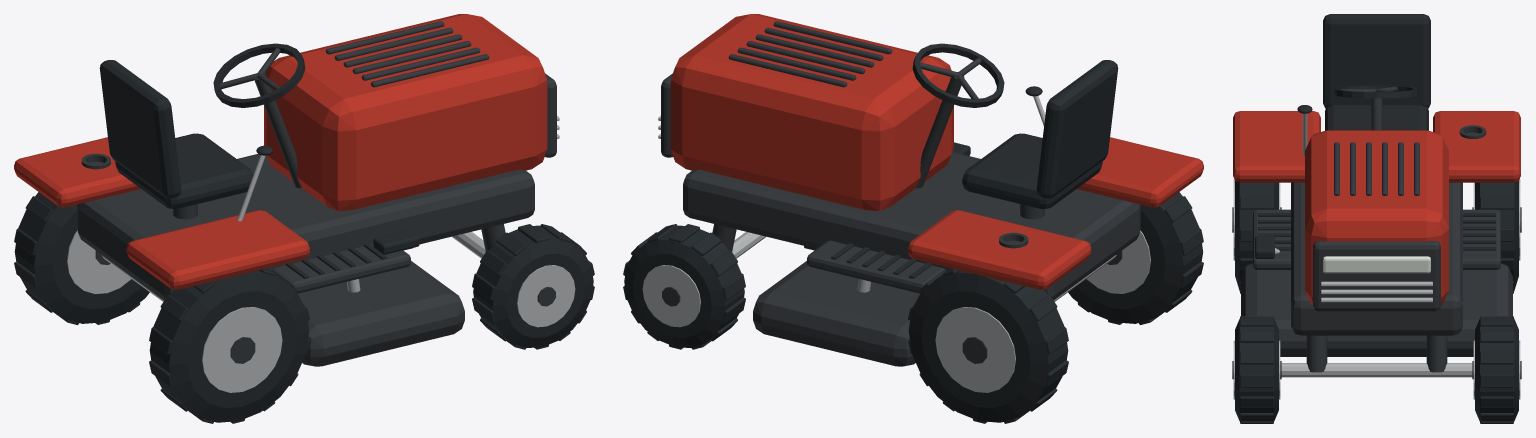
File: A-NEW-20261026-RIDING-MOWER-001_LOD2_R5.fbx
3 renders of one model, left to right at view 1: azimuth 30°, elevation 25°; view 2: azimuth 150°, elevation 25°; view 3: azimuth 270°, elevation 25°, orthographic. The views are drawn at different scales.
Visible parts, largest first — view 1: sloping hood, main chassis, treaded tire.002, wide low mower deck, rear fender, open bucket back, treaded tire, treaded tire.003, rear fender.001, wheel rim.004, seat cushion, foot platform (+13 smaller); view 2: sloping hood, main chassis, treaded tire.003, wide low mower deck, rear fender.001, open bucket back, treaded tire.001, treaded tire.002, rear fender, wheel rim.007, seat cushion, foot platform.001 (+12 smaller); view 3: sloping hood, open bucket back, wide low mower deck, main chassis, front fascia, rear fender, rear fender.001, wheel axle, treaded tire, treaded tire.001, seat cushion, broad headlamp (+29 smaller).
Boxes of the visible parts, <box> form: sloping hood: <box>264,14,547,211</box>; main chassis: <box>77,154,534,300</box>; treaded tire.002: <box>149,270,309,422</box>; wide low mower deck: <box>298,261,464,366</box>; rear fender: <box>126,210,309,289</box>; open bucket back: <box>99,60,181,198</box>; treaded tire: <box>473,225,593,347</box>; treaded tire.003: <box>14,192,149,323</box>; rear fender.001: <box>14,137,140,207</box>; wheel rim.004: <box>202,307,282,392</box>; seat cushion: <box>115,133,253,208</box>; foot platform: <box>273,244,410,293</box>; sloping hood: <box>670,14,953,211</box>; main chassis: <box>683,152,1140,300</box>; treaded tire.003: <box>908,270,1068,422</box>; wide low mower deck: <box>753,261,919,366</box>; rear fender.001: <box>908,210,1091,289</box>; open bucket back: <box>1036,60,1118,198</box>; treaded tire.001: <box>624,225,744,347</box>; treaded tire.002: <box>1068,192,1203,323</box>; rear fender: <box>1077,137,1203,207</box>; wheel rim.007: <box>935,307,1015,392</box>; seat cushion: <box>962,133,1102,208</box>; foot platform.001: <box>807,240,944,293</box>; sloping hood: <box>1305,130,1448,305</box>; open bucket back: <box>1323,14,1430,108</box>; wide low mower deck: <box>1241,263,1512,356</box>; main chassis: <box>1291,182,1462,335</box>; front fascia: <box>1313,241,1440,311</box>; rear fender: <box>1233,111,1320,182</box>; rear fender.001: <box>1433,111,1520,182</box>; wheel axle: <box>1281,363,1472,377</box>; treaded tire: <box>1235,318,1278,421</box>; treaded tire.001: <box>1475,318,1518,421</box>; seat cushion: <box>1325,105,1428,130</box>; broad headlamp: <box>1323,256,1430,273</box>.
Bounding box in the file's own units: 112 × 71.91 × 72.3.
